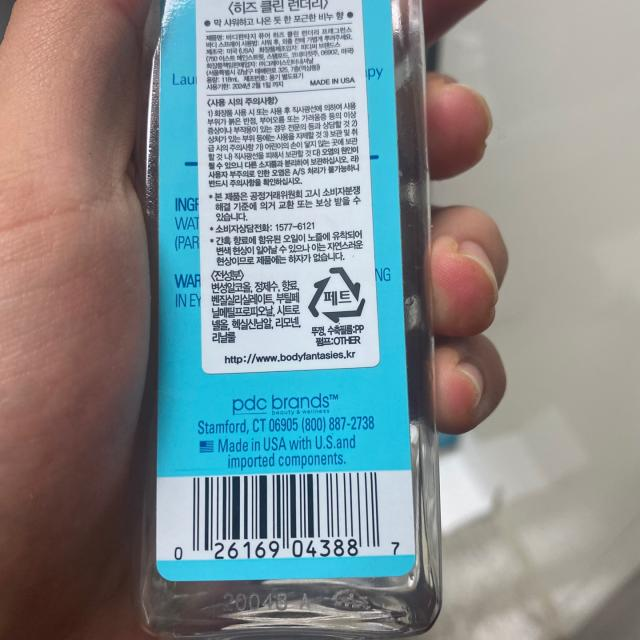PET: (305, 265, 367, 325)
